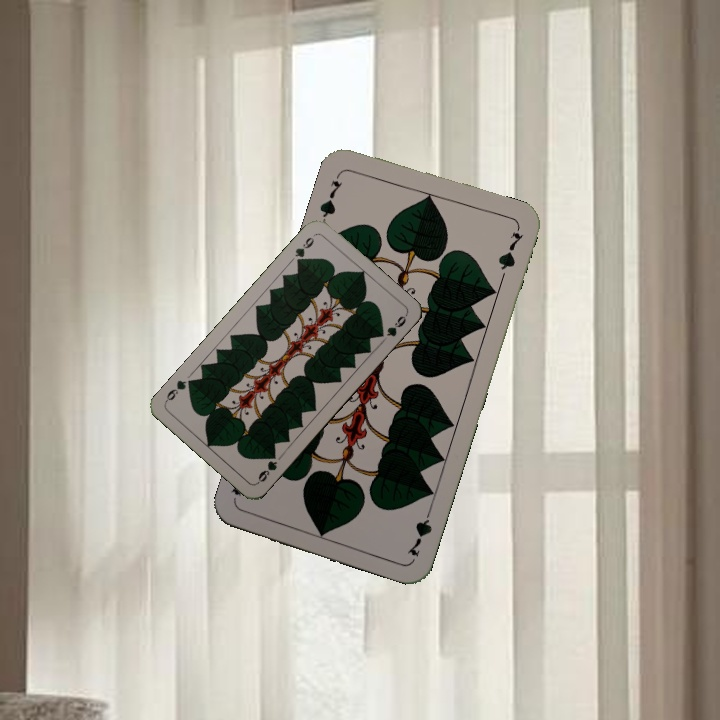G7: (403, 502, 435, 559), (315, 169, 345, 226)
G9: (253, 448, 280, 486), (290, 231, 318, 267)
